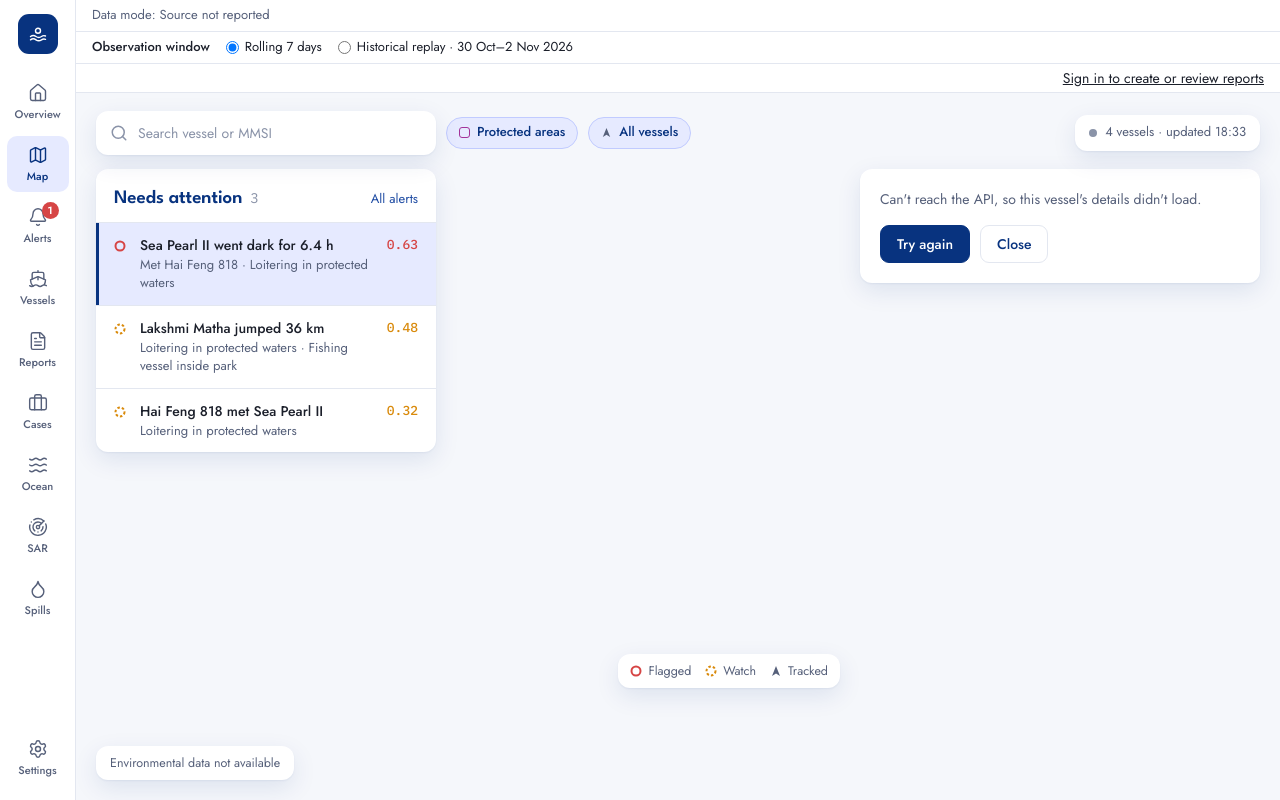
map page › loads the vessel again when asked
Click the button "Try again" at point(925, 244), box left=880, top=225, right=970, bottom=263
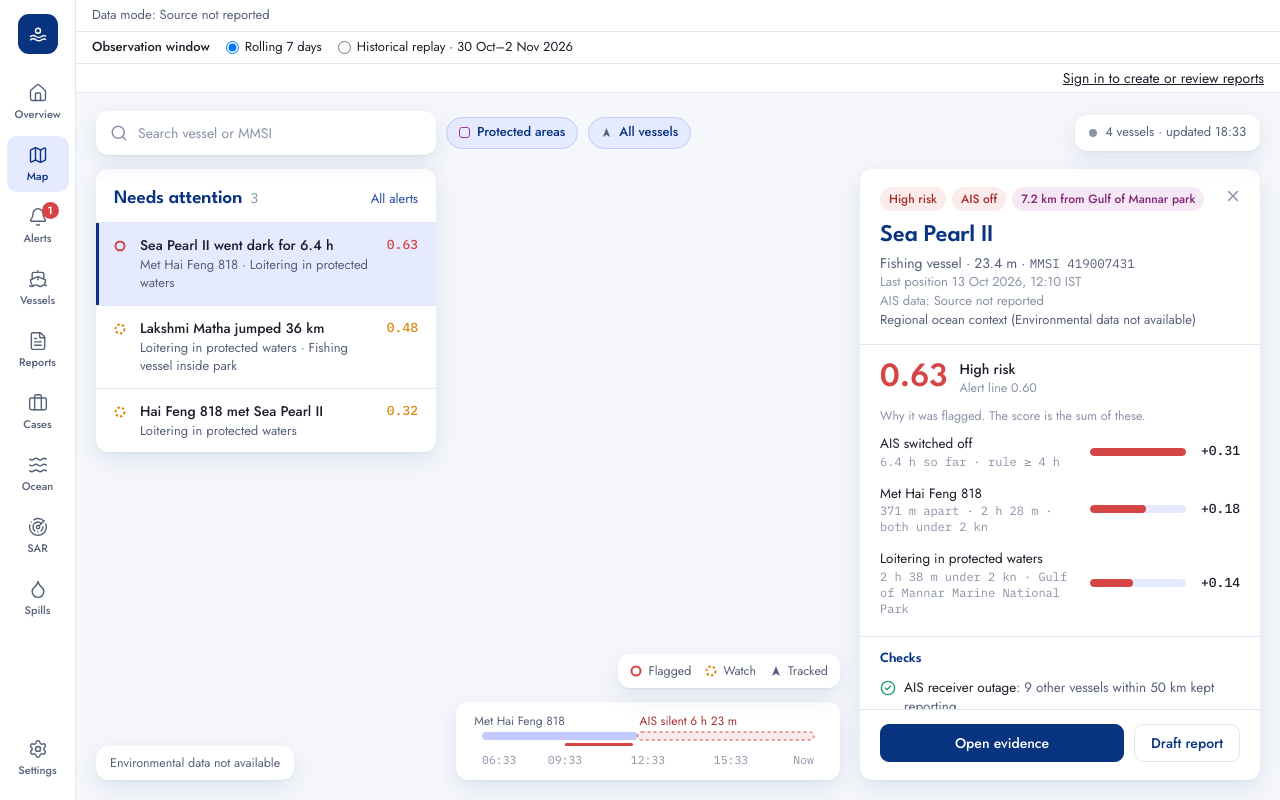
Check: the heading "Sea Pearl II" is shown, box left=880, top=224, right=993, bottom=246
